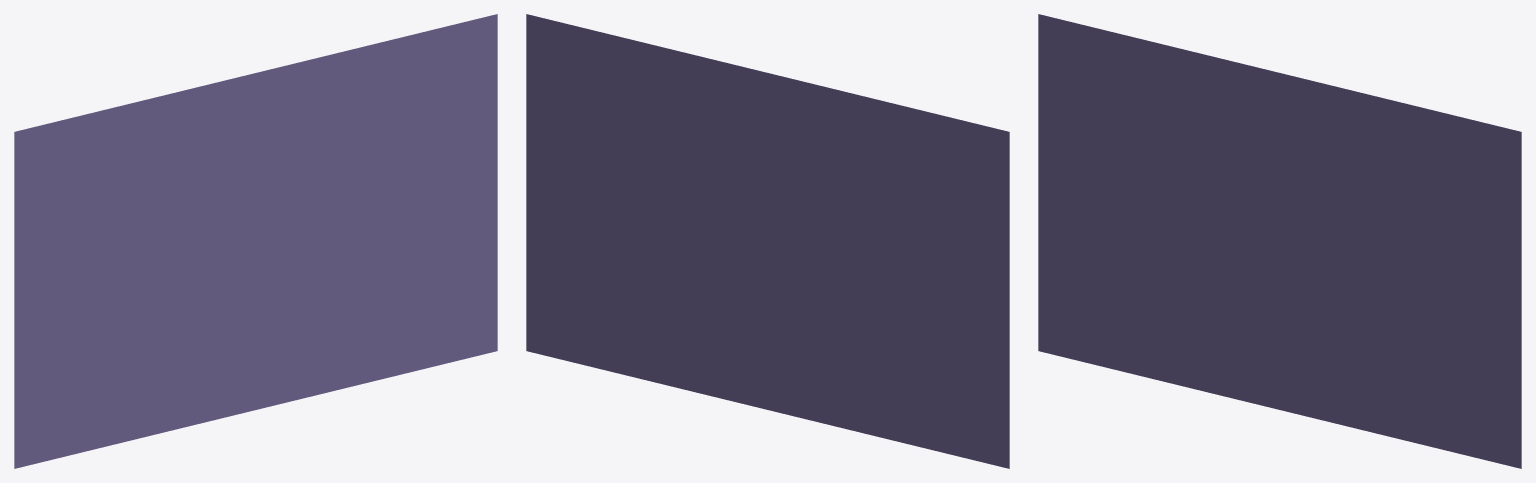
The model's file is environmentproject_wallconcretemural_a.fbx.
3 renders of one model, left to right at view 1: azimuth 30°, elevation 25°; view 2: azimuth 150°, elevation 25°; view 3: azimuth 330°, elevation 25°, orthographic.
Parts seen in each view (by area): view 1: wallconcrete_b_GEO_01; view 2: wallconcrete_b_GEO_01; view 3: wallconcrete_b_GEO_01.
Part boxes in pixels (x1,y1,x2,y2): wallconcrete_b_GEO_01: (14, 14, 497, 468); wallconcrete_b_GEO_01: (526, 14, 1009, 468); wallconcrete_b_GEO_01: (1038, 14, 1521, 468).
Size of the model in its own units: 600 by 400 by 0.
